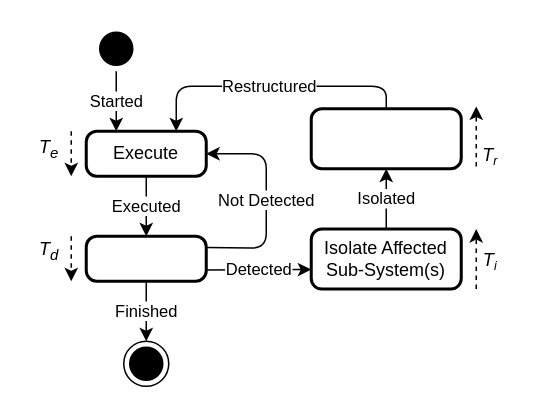
Some shapes in this 537 by 413 pixel diagram are drawn without their labels. The box of each missing label's shape, as (x1, y1, x2, y2) in pixels:
Detect: (84, 234, 207, 282)
Remove Affected Sub-Systems: (309, 106, 462, 170)
